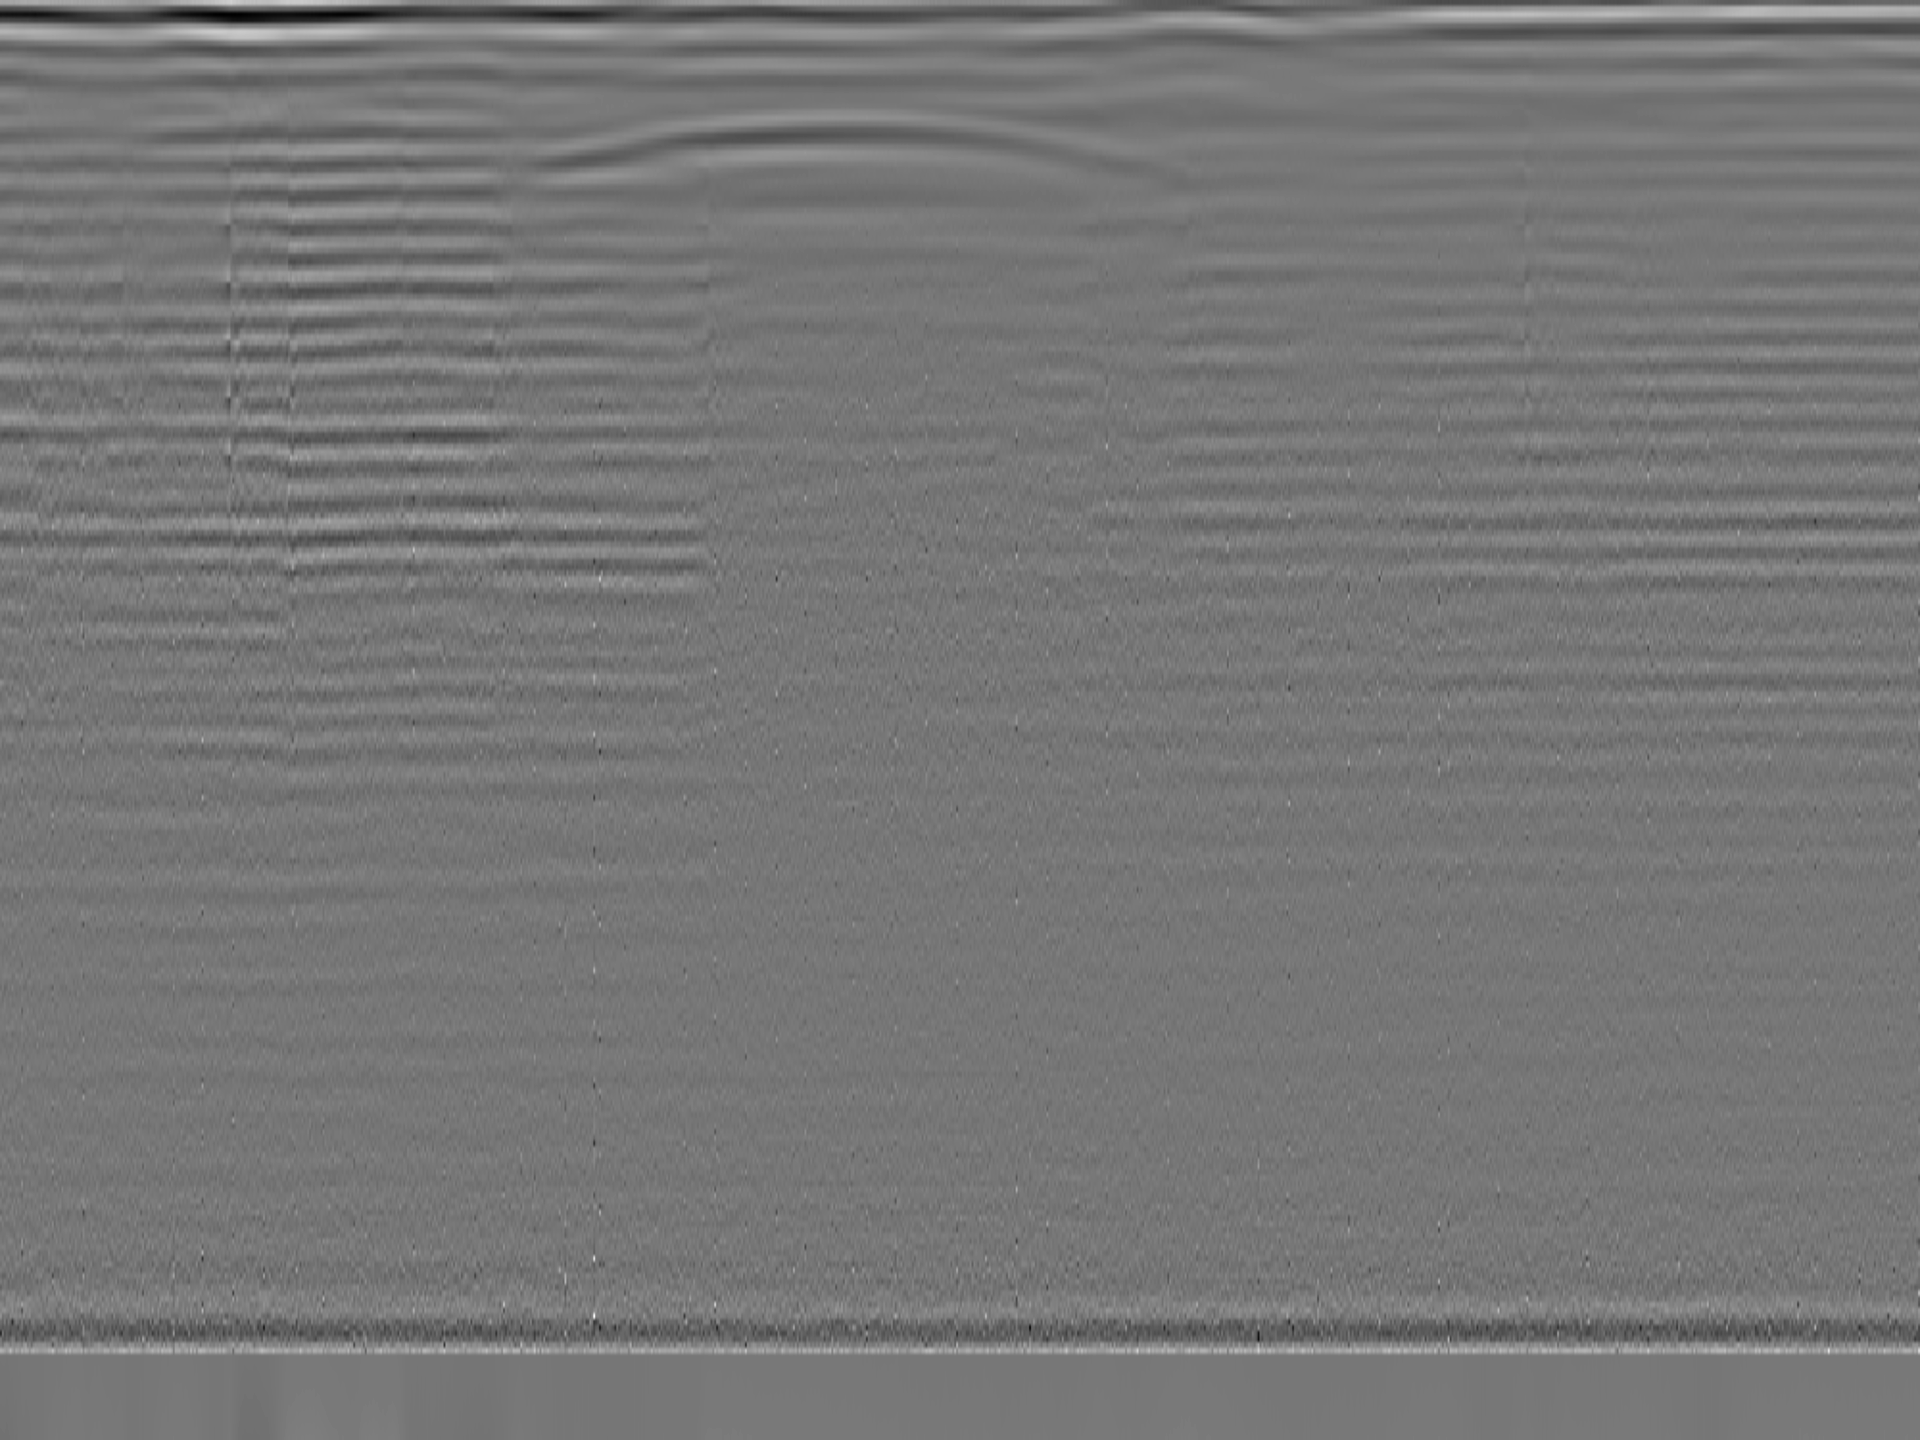Tunnel: (535, 112, 1205, 188)
